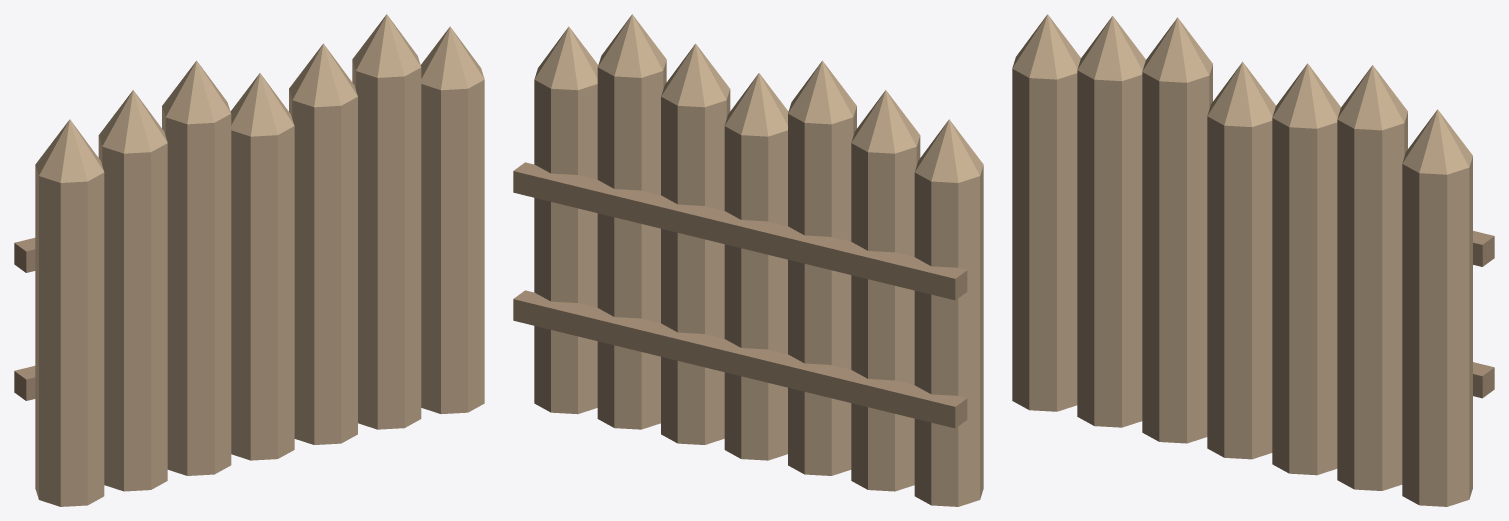
The model's file is palisade.glb.
3 renders of one model, left to right at view 1: azimuth 30°, elevation 25°; view 2: azimuth 150°, elevation 25°; view 3: azimuth 330°, elevation 25°, orthographic. The views are drawn at different scales.
Visible parts, largest first — view 1: palisade_wood, palisade_frame; view 2: palisade_wood, palisade_frame; view 3: palisade_wood, palisade_frame.
Part boxes in pixels (x1,y1,x2,y2): palisade_wood: [35, 14, 484, 506]; palisade_frame: [14, 238, 35, 400]; palisade_wood: [534, 14, 983, 506]; palisade_frame: [513, 162, 967, 428]; palisade_wood: [1012, 14, 1472, 506]; palisade_frame: [1473, 231, 1494, 398].
Bounding box in the file's own units: 1 × 0.8667 × 0.1667.
